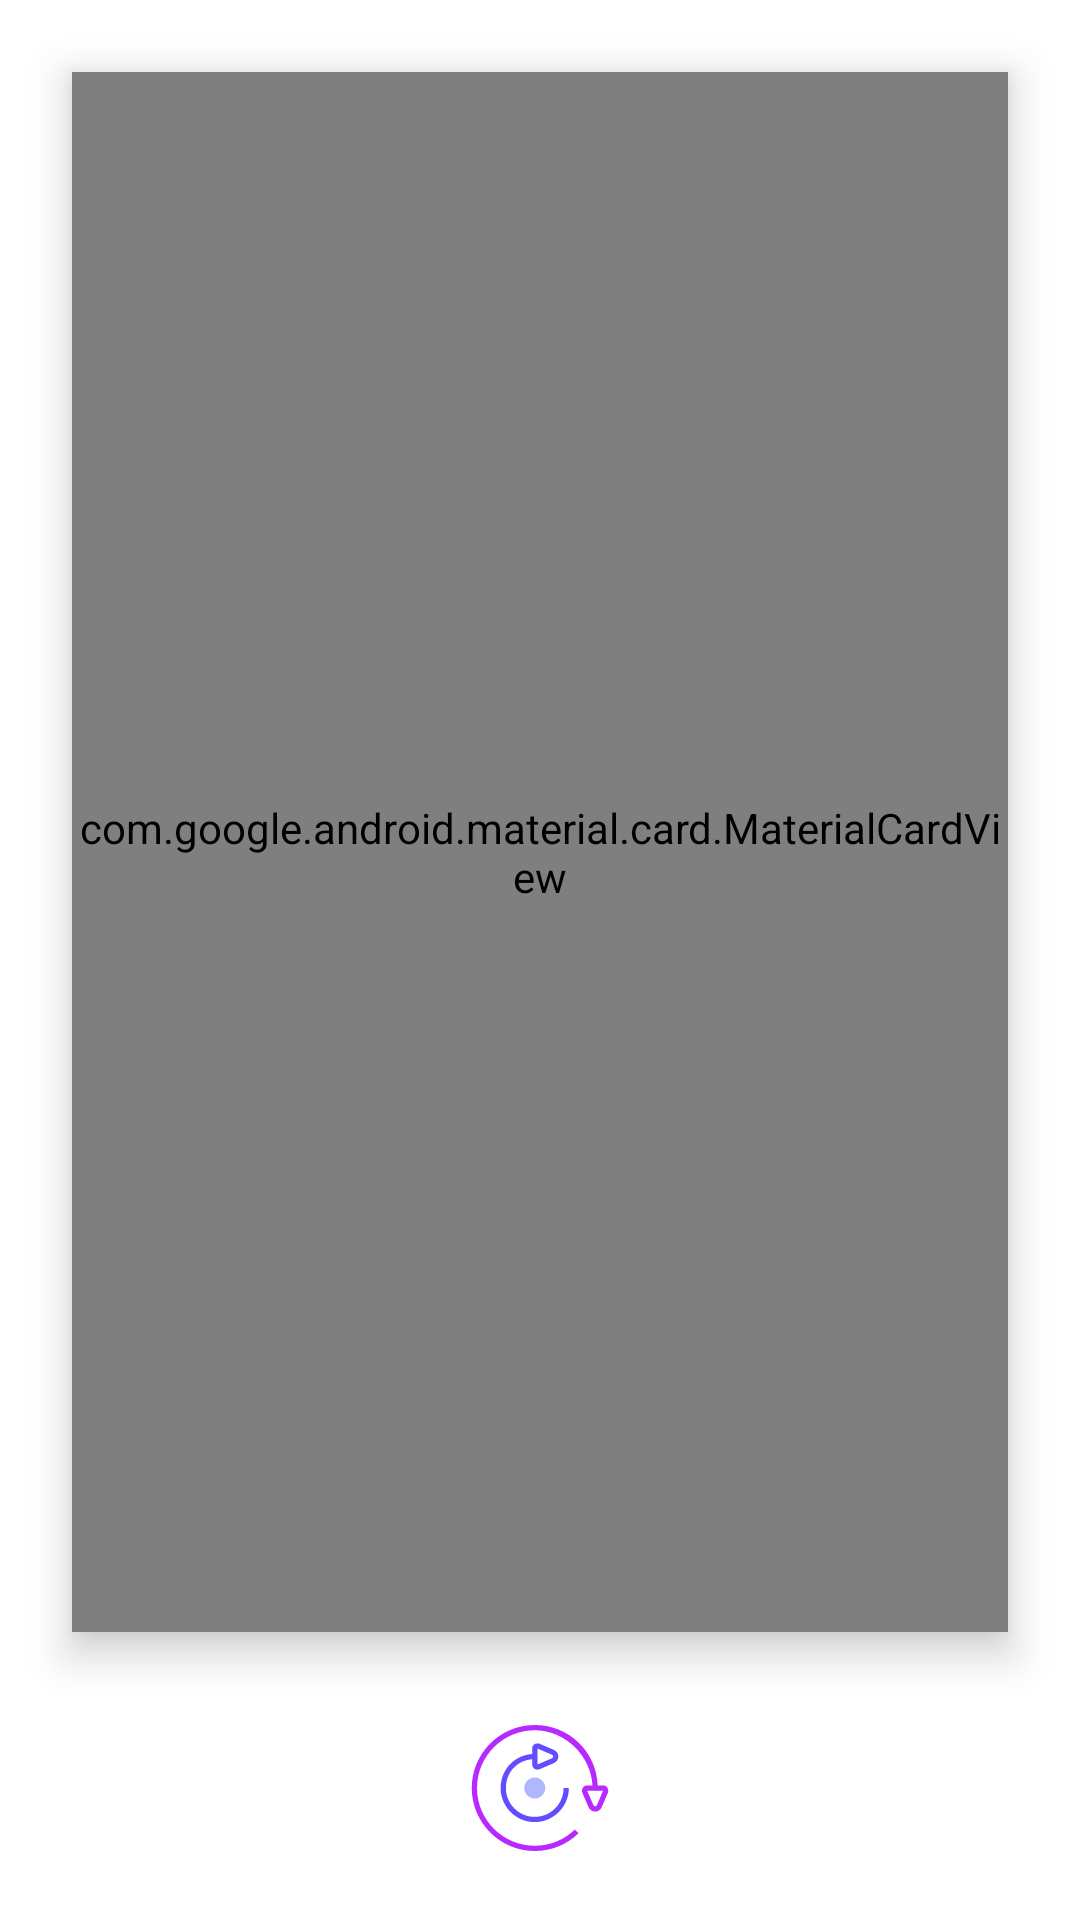

Screen size 1080 x 1920. Icon name, then its box in pixels as {"left": x1, "top": y1, "right": x2, "bottom": y2}:
refresh: {"left": 471, "top": 1725, "right": 609, "bottom": 1851}
